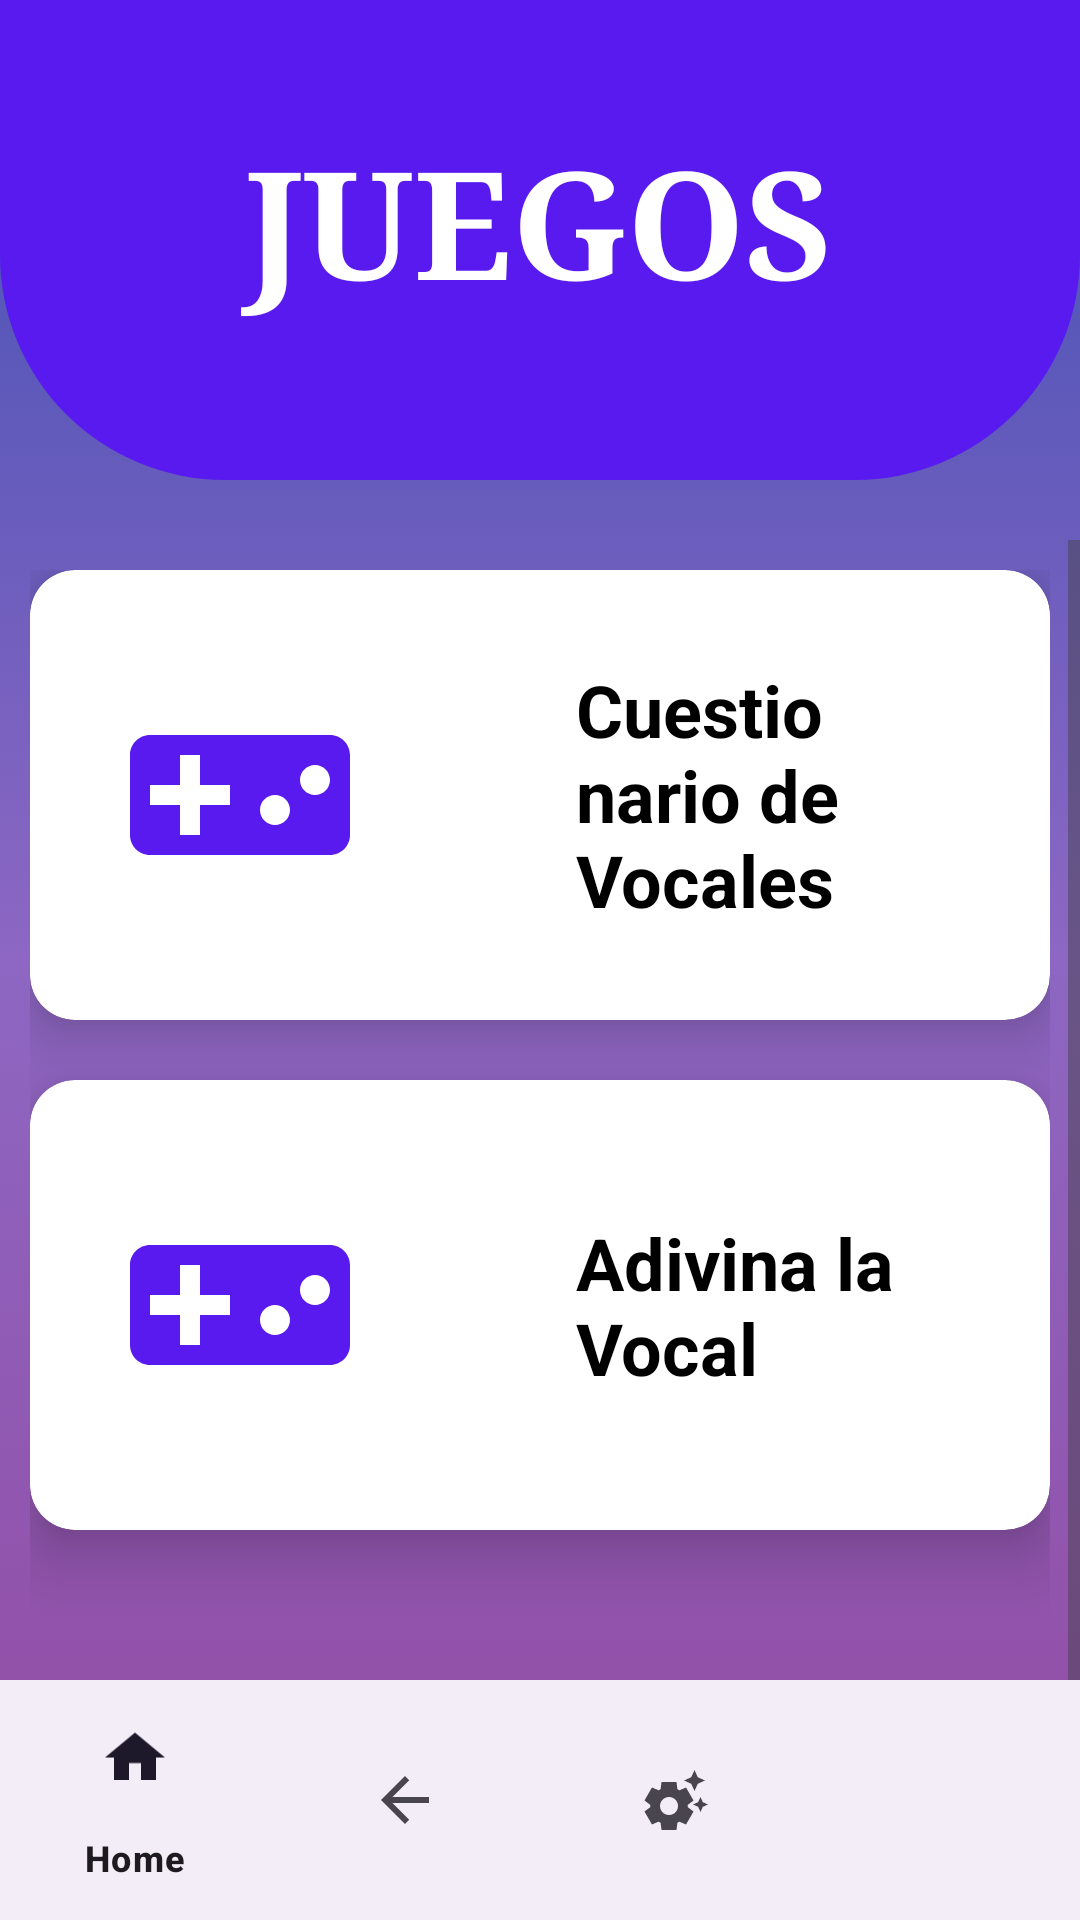

Where to tap for icons on this 1080w x 1920h app screen, as [x,y]:
games: [240,795], [240,1305]
